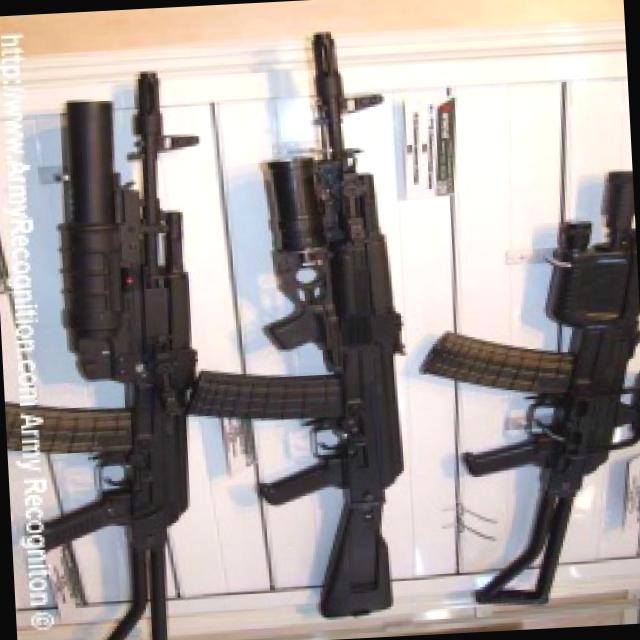long weapon: (210, 34, 425, 634), (9, 80, 236, 634), (440, 180, 639, 580)
